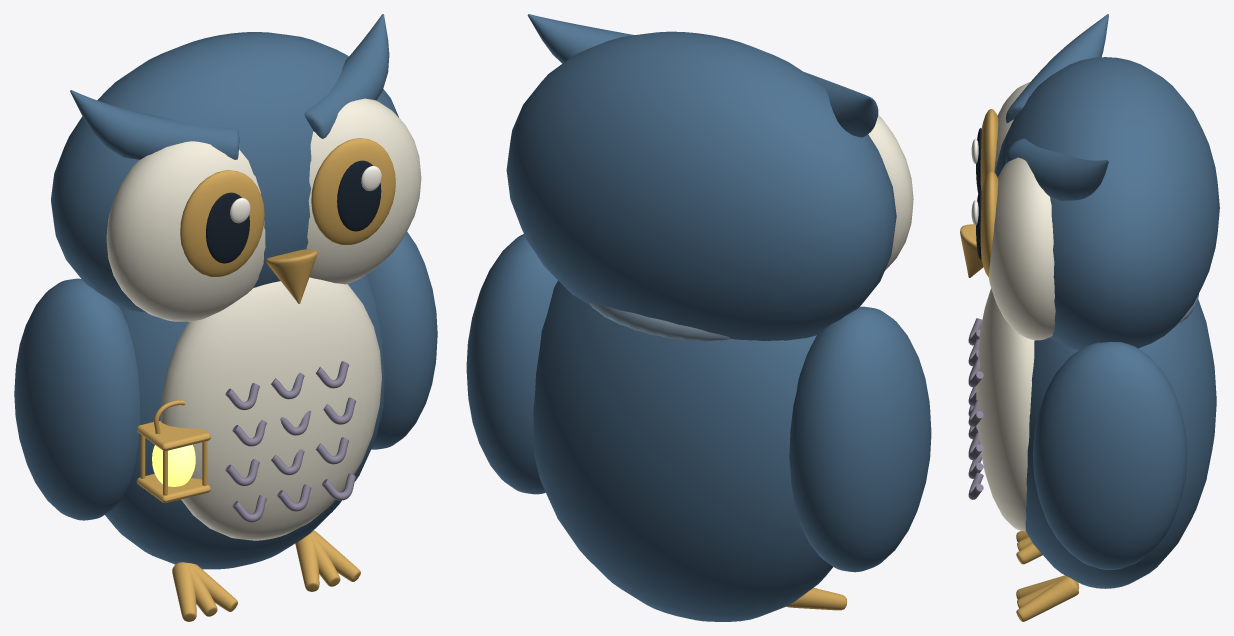
Rendered from Luma.glb.
3 views of the same model, side by side, from view 1: azimuth 30°, elevation 25°; view 2: azimuth 150°, elevation 25°; view 3: azimuth 270°, elevation 25° (orthographic). The views are drawn at different scales.
Visible parts, largest first — view 1: Luma feathered bib, Luma head, Luma wing.001, Luma heart face.001, Luma pear shaped body, Luma wing, Luma heart face, Luma brow feather.001, Luma amber iris, Luma amber iris.001, Luma brow feather, Luma black pupil (+11 smaller); view 2: Luma head, Luma pear shaped body, Luma wing.001, Luma wing, Luma heart face.001, Luma brow feather, Luma brow feather.001, Luma blue scarf, Luma little talon.005; view 3: Luma head, Luma wing, Luma pear shaped body, Luma feathered bib, Luma heart face, Luma brow feather, Luma brow feather.001, Luma amber iris, Luma little talon, Luma amber iris.001, Luma beak, Luma heart face.001.
Boxes of the visible parts, x1=… form: Luma feathered bib: x1=160, y1=277, x2=381, y2=540; Luma head: x1=51, y1=32, x2=398, y2=312; Luma wing.001: x1=14, y1=278, x2=140, y2=520; Luma heart face.001: x1=106, y1=141, x2=265, y2=321; Luma pear shaped body: x1=105, y1=274, x2=384, y2=569; Luma wing: x1=367, y1=231, x2=437, y2=449; Luma heart face: x1=306, y1=98, x2=421, y2=284; Luma brow feather.001: x1=70, y1=90, x2=239, y2=159; Luma amber iris: x1=311, y1=138, x2=395, y2=244; Luma amber iris.001: x1=180, y1=170, x2=264, y2=276; Luma brow feather: x1=304, y1=14, x2=389, y2=138; Luma black pupil: x1=337, y1=160, x2=381, y2=231; Luma head: x1=506, y1=31, x2=896, y2=340; Luma pear shaped body: x1=533, y1=280, x2=832, y2=621; Luma wing.001: x1=789, y1=306, x2=931, y2=572; Luma wing: x1=466, y1=234, x2=557, y2=494; Luma heart face.001: x1=868, y1=115, x2=913, y2=270; Luma brow feather: x1=527, y1=14, x2=634, y2=63; Luma brow feather.001: x1=804, y1=72, x2=878, y2=137; Luma blue scarf: x1=589, y1=303, x2=730, y2=341; Luma little talon.005: x1=786, y1=588, x2=846, y2=610; Luma head: x1=994, y1=57, x2=1219, y2=350; Luma wing: x1=1032, y1=342, x2=1187, y2=569; Luma pear shaped body: x1=1025, y1=299, x2=1216, y2=588; Luma feathered bib: x1=975, y1=288, x2=1034, y2=531; Luma heart face: x1=988, y1=157, x2=1055, y2=340; Luma brow feather: x1=1005, y1=138, x2=1108, y2=200; Luma brow feather.001: x1=1005, y1=14, x2=1108, y2=122; Luma amber iris: x1=980, y1=170, x2=998, y2=276; Luma little talon: x1=1016, y1=576, x2=1078, y2=621; Luma amber iris.001: x1=980, y1=109, x2=998, y2=189; Luma beak: x1=960, y1=224, x2=983, y2=277; Luma heart face.001: x1=994, y1=82, x2=1029, y2=171.
Size of the model in its own units: 1.42 by 1.8 by 0.8401.
